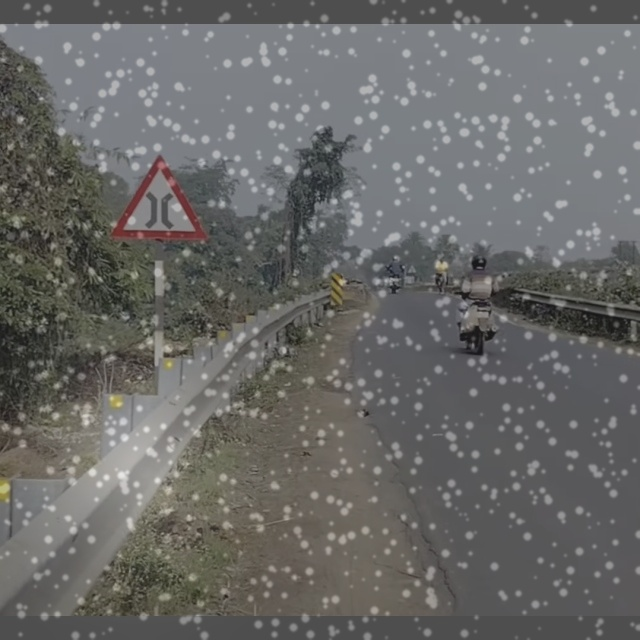Narrow_Bridge: (117, 156, 210, 244)
